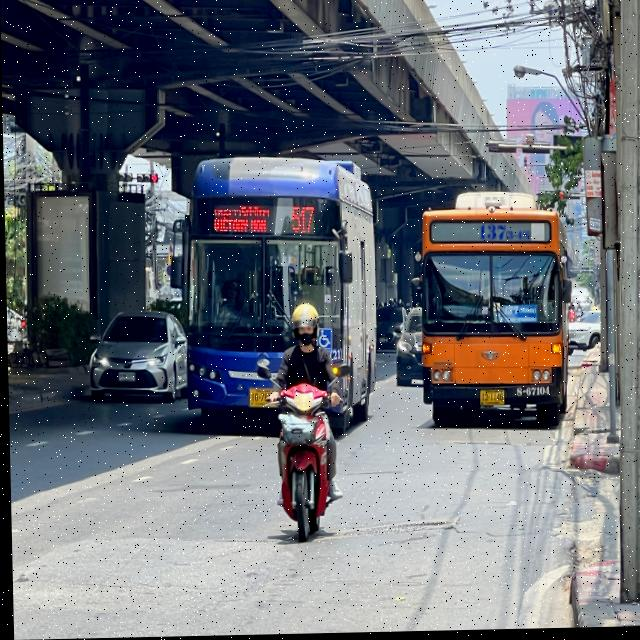BMTA-bus: (416, 188, 573, 436)
Bus-Line-Number: (470, 224, 532, 245), (289, 206, 314, 237)
Destination-Sign-Normal: (212, 204, 273, 237), (492, 306, 537, 325)
TSB-Bus: (176, 149, 378, 442)
